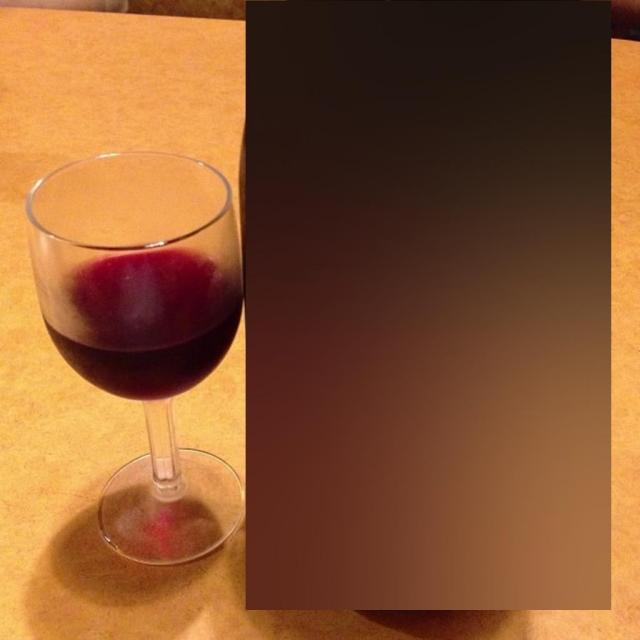glass-wine: (26, 152, 244, 564)
